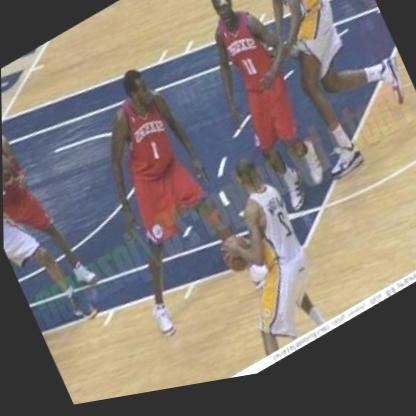basketball: (215, 233, 262, 289)
